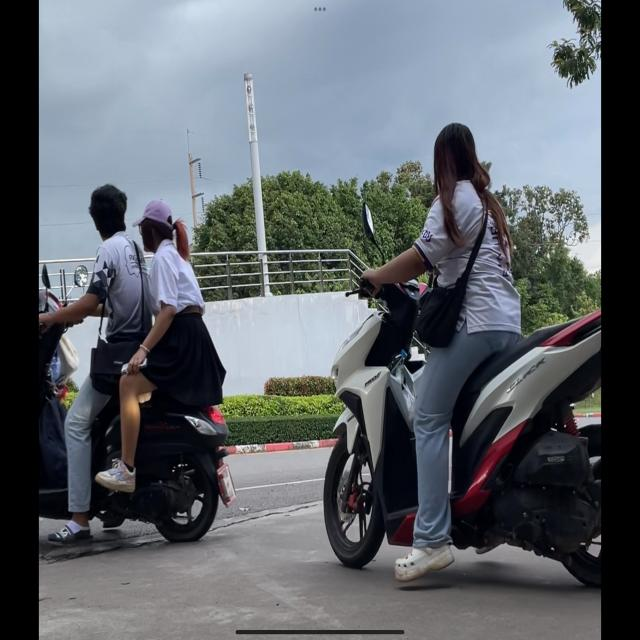seatbelt: (431, 122, 478, 192), (132, 196, 185, 253), (87, 181, 129, 239)
